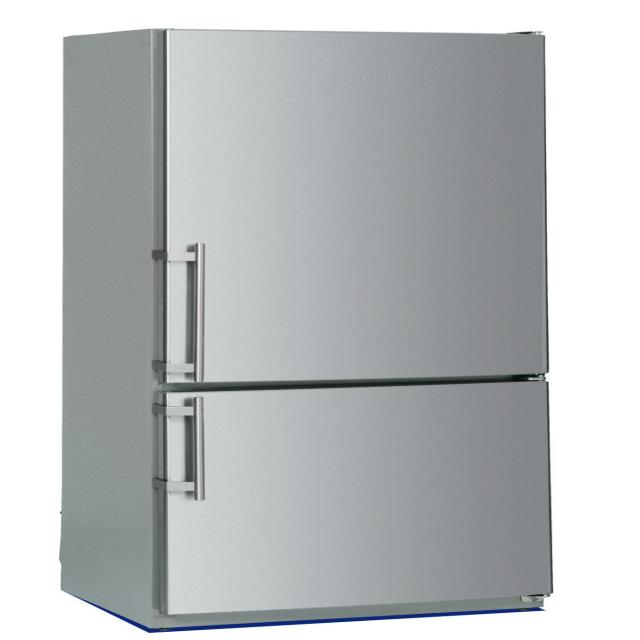obstacle: (59, 27, 552, 632)
